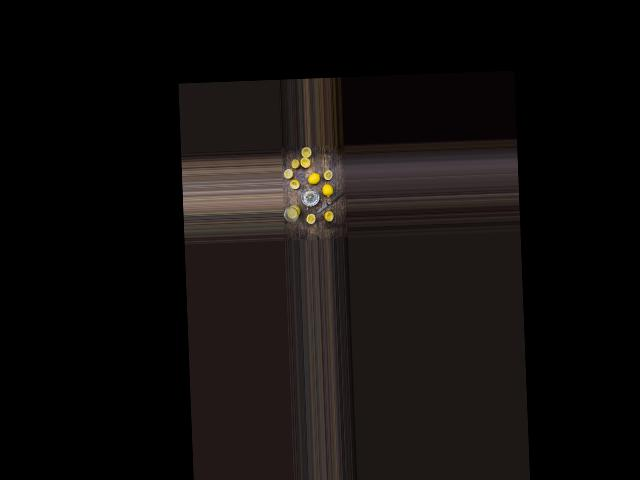lemon: (320, 179, 333, 197)
